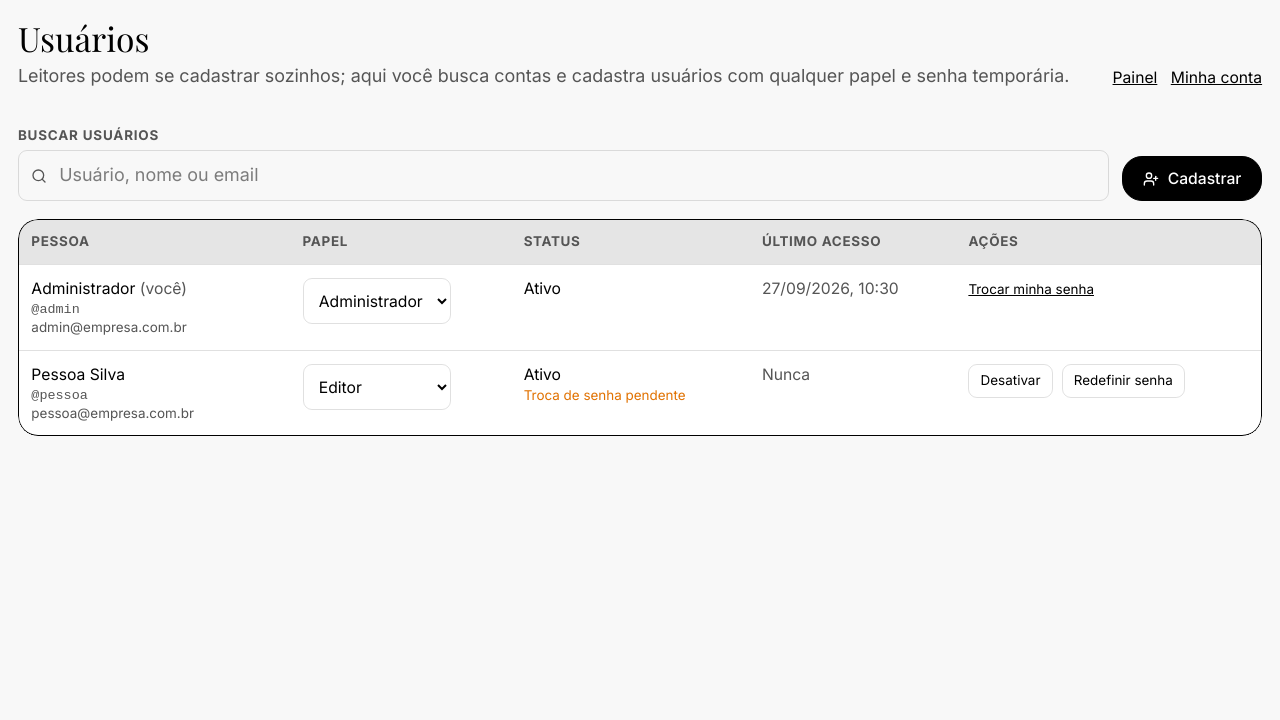
Scenario: UsersManager › modal: dados inválidos não chegam à ação
Click the button "Cadastrar" at (1192, 179), box [1122,156,1262,201]
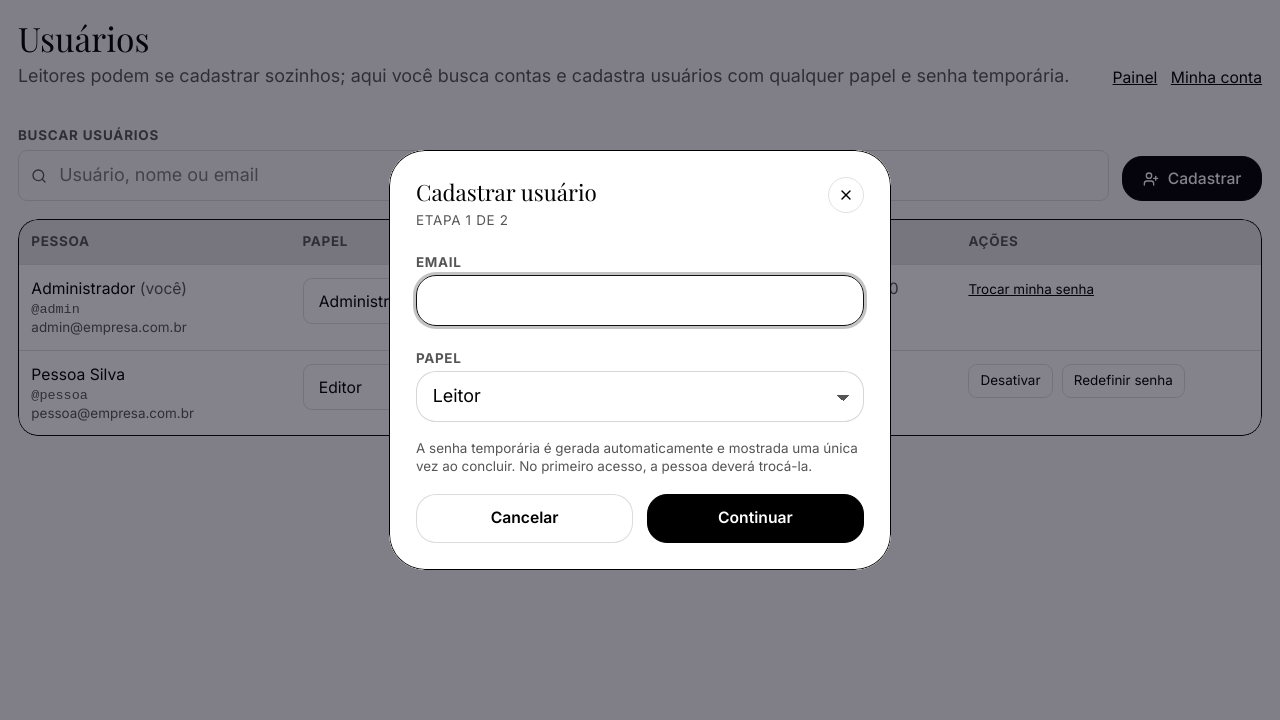
Type "sem-arroba" into the field labelled "Email" at (640, 301), box [416,275,864,326]
Click the button "Continuar" at (755, 519), box [647,494,864,543]
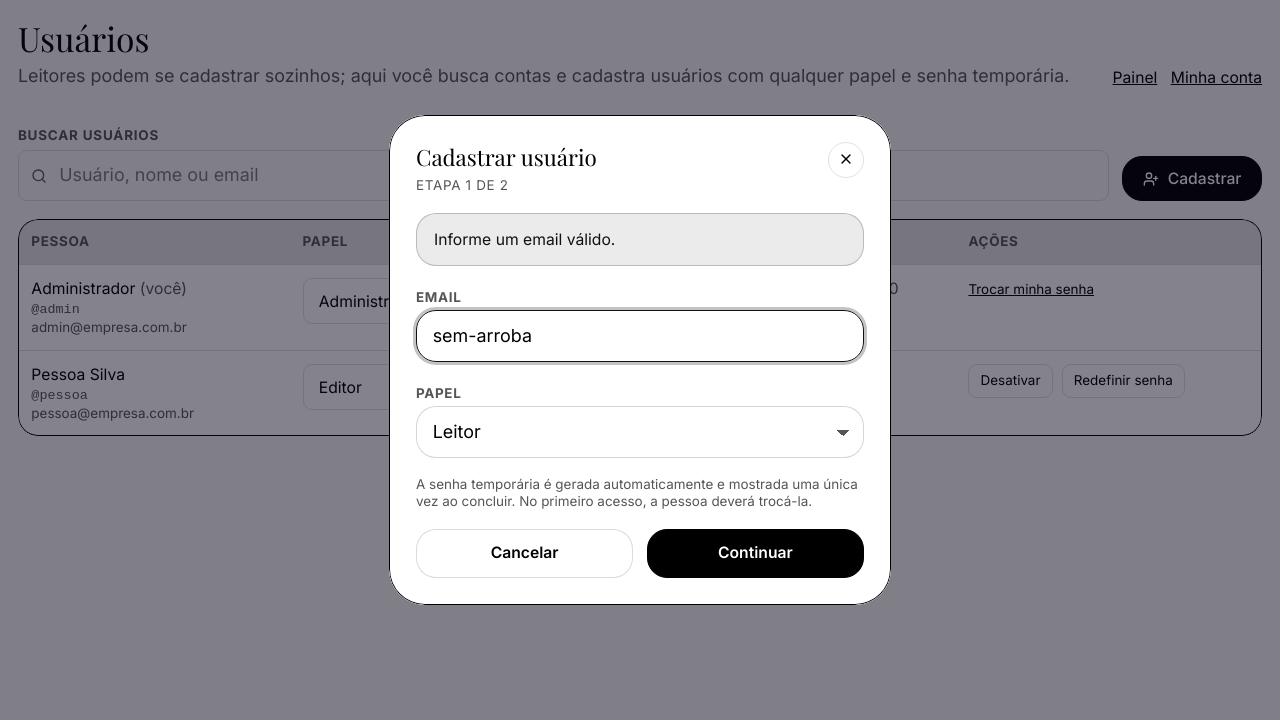
Expected: the message shows "email válido", [434,230,615,249]
Replace the text in the field labelled "Email" with "x@empresa.com.br" at (640, 336), box [416,310,864,362]
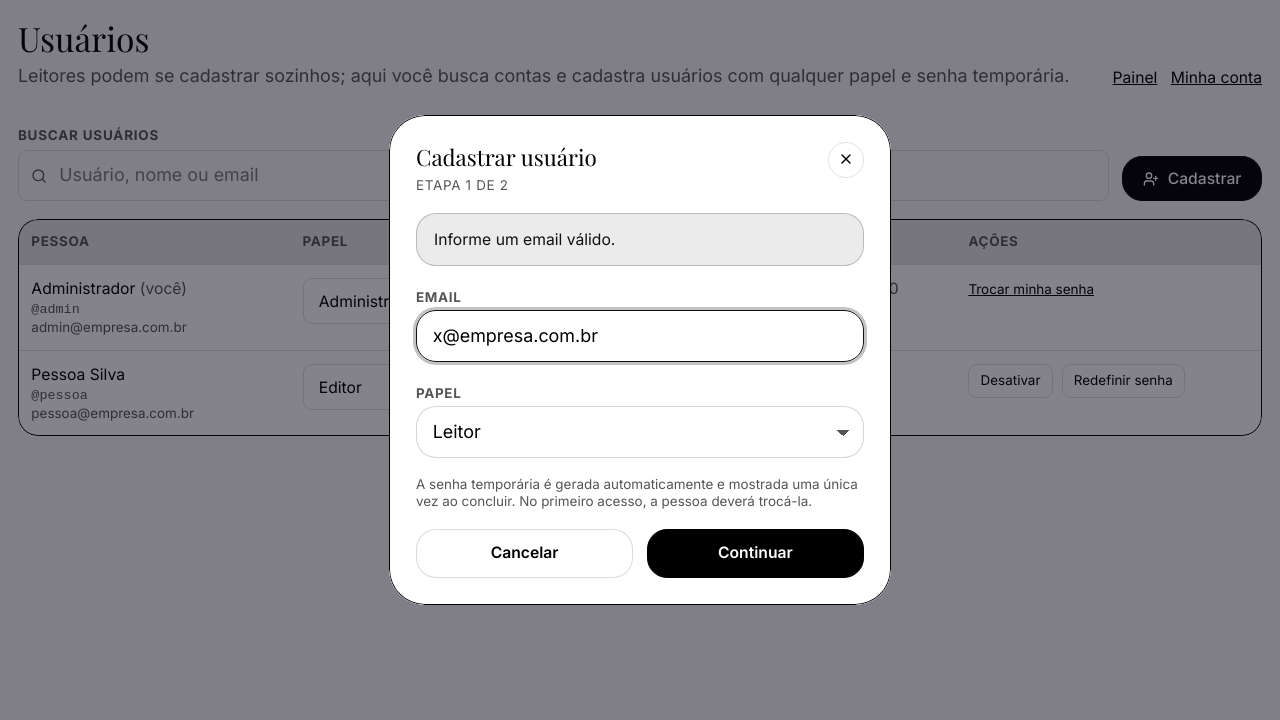
Click the button "Continuar" at (755, 554), box [647,529,864,578]
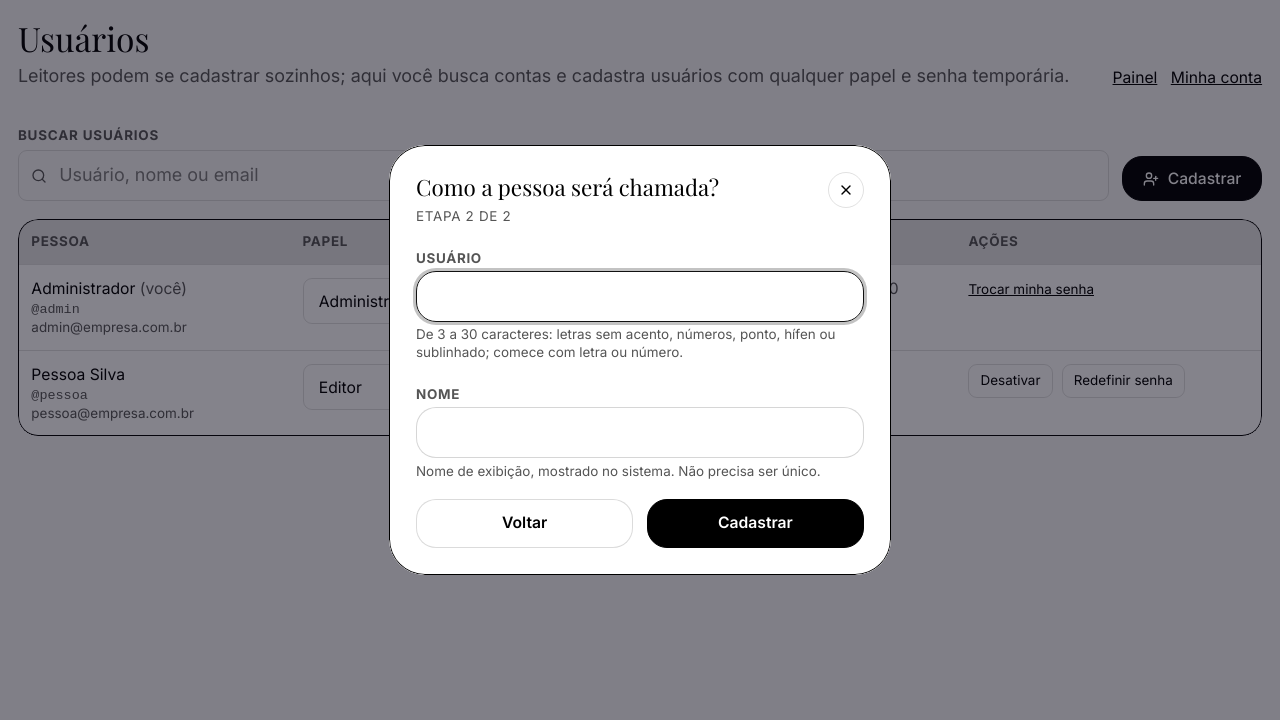
Type "a" into the field labelled "Usuário" at (640, 296), box [416,271,864,322]
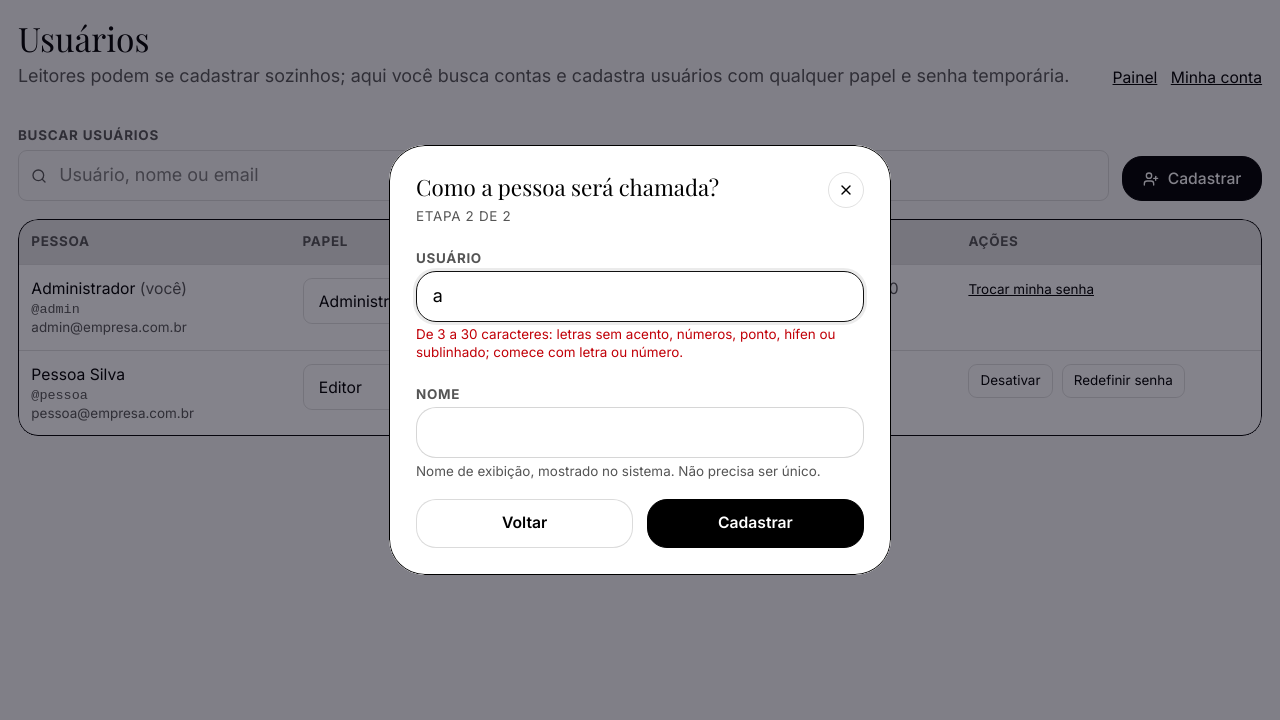
Click the button "Cadastrar" at (755, 523), box [647,498,864,548]
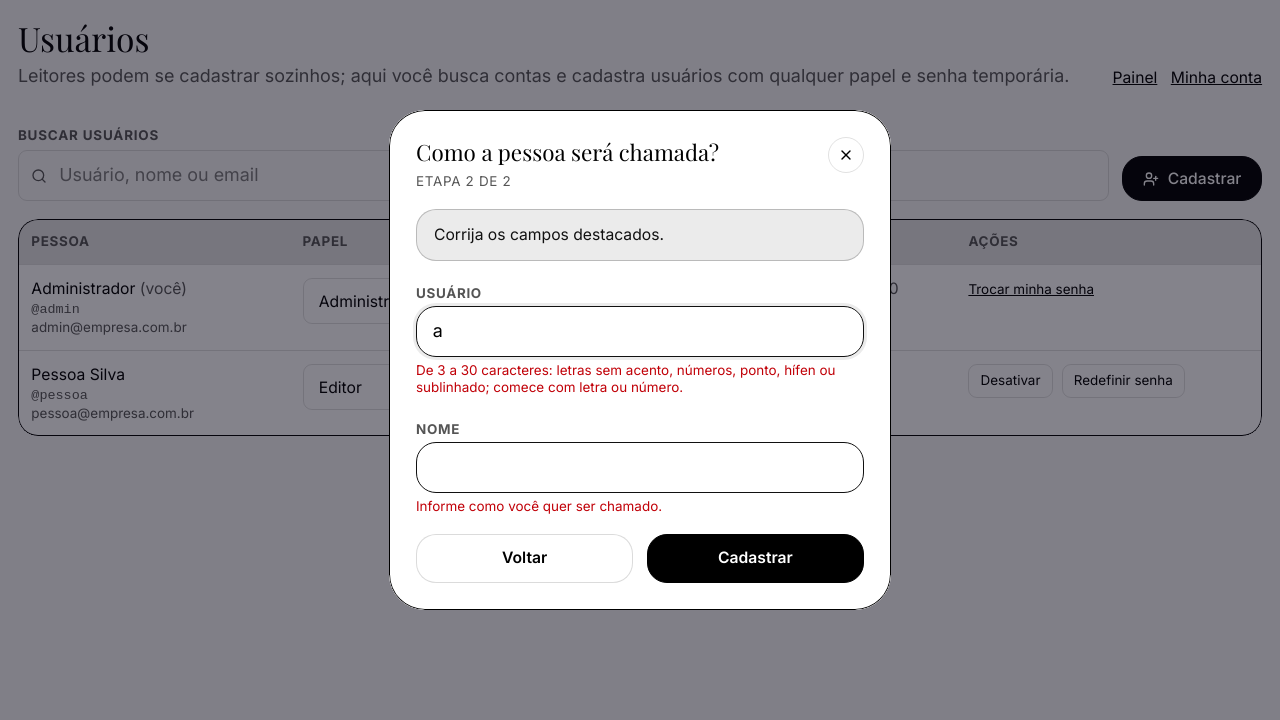
Expected: the message shows "Corrija os campos", [434,225,664,244]
